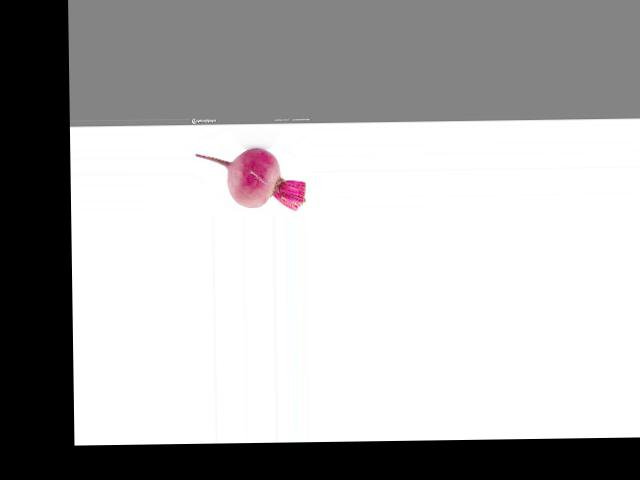beet: (195, 147, 306, 211)
